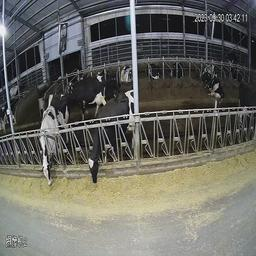cow: (93, 82, 133, 210), (39, 103, 61, 194), (63, 73, 92, 124), (239, 79, 255, 147), (40, 86, 67, 124), (202, 65, 225, 105), (118, 56, 132, 84), (171, 58, 184, 87), (148, 60, 163, 82), (95, 61, 107, 84), (226, 55, 238, 74)
